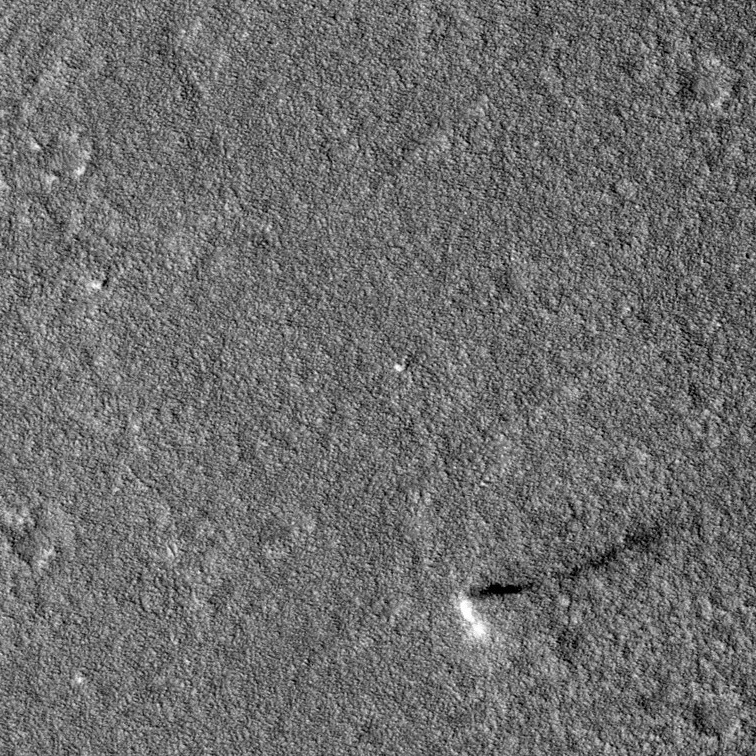dust_devil: (455, 520, 672, 651)
